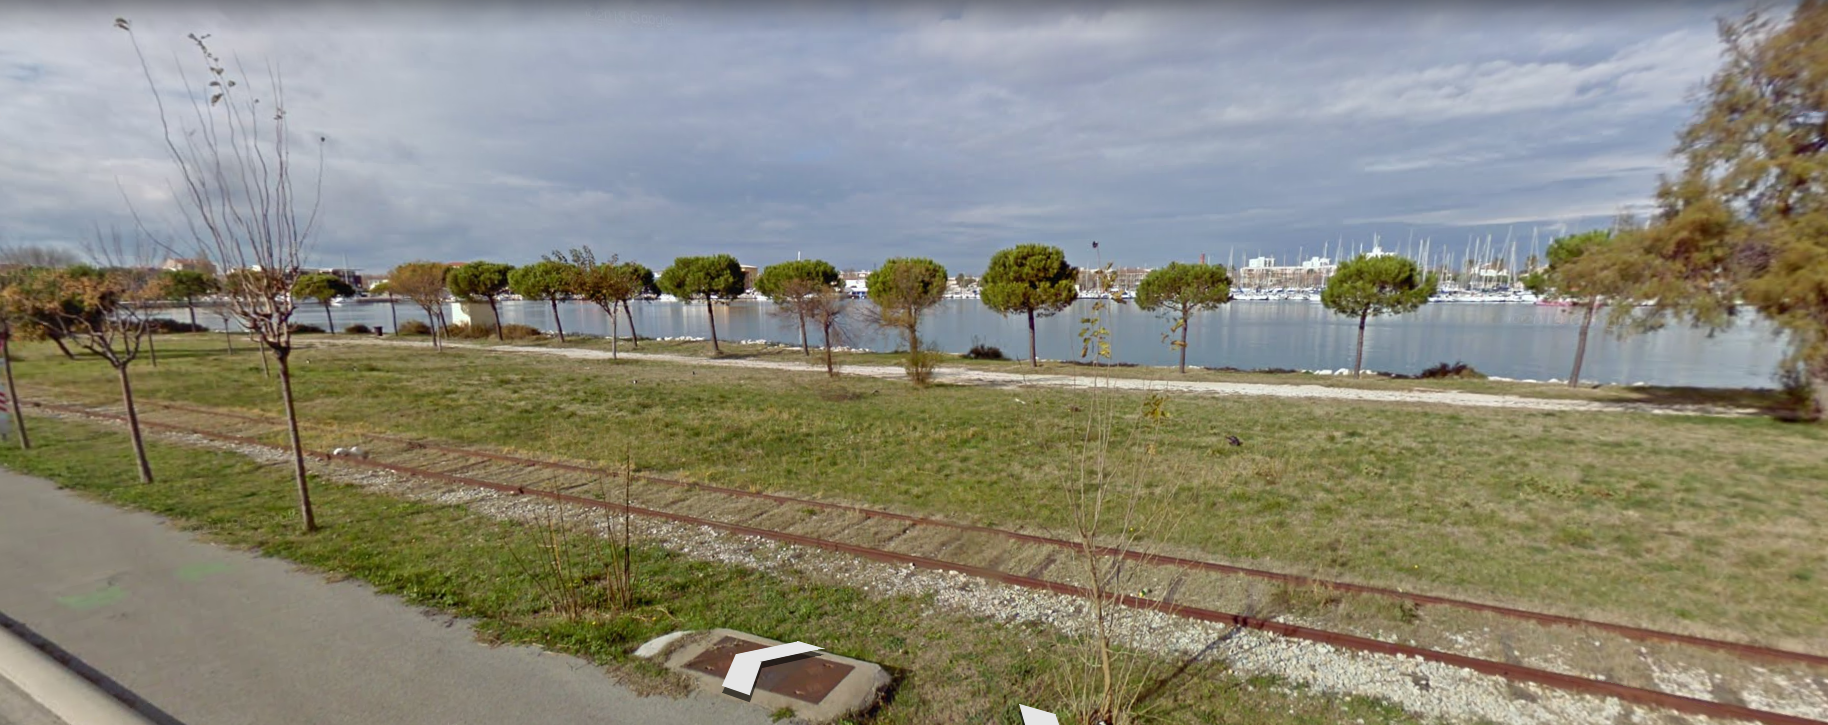Tree: (977, 233, 1078, 383), (1333, 253, 1436, 383), (1131, 253, 1240, 373), (748, 256, 845, 371), (662, 247, 745, 373), (581, 253, 665, 374), (867, 254, 954, 362), (430, 248, 509, 361), (501, 251, 584, 357)
